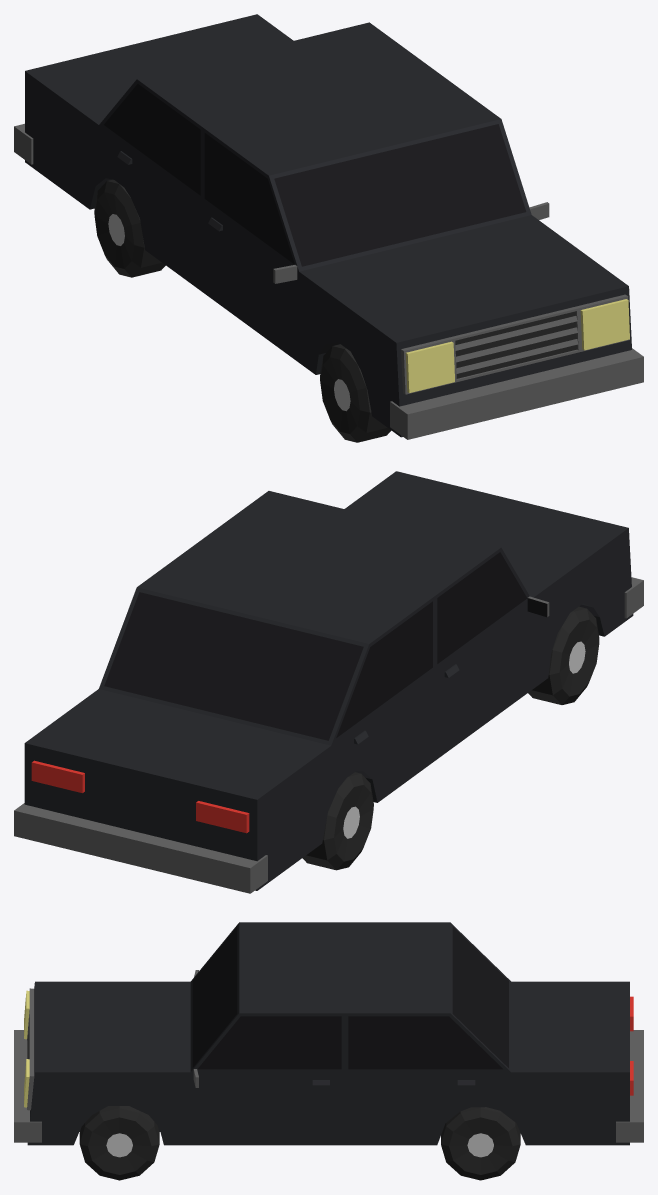
The model's file is Car_04.fbx.
3 renders of one model, top to bottom at view 1: azimuth 30°, elevation 25°; view 2: azimuth 150°, elevation 25°; view 3: azimuth 270°, elevation 25°, orthographic. The views are drawn at different scales.
Parts seen in each view (by area): view 1: Car_04; view 2: Car_04; view 3: Car_04.
Part boxes in pixels (<box>): Car_04: <box>14,14,643,442</box>; Car_04: <box>14,471,643,893</box>; Car_04: <box>14,922,643,1180</box>.
Bounding box in the file's own units: 2.58 × 1.88 × 6.41.
